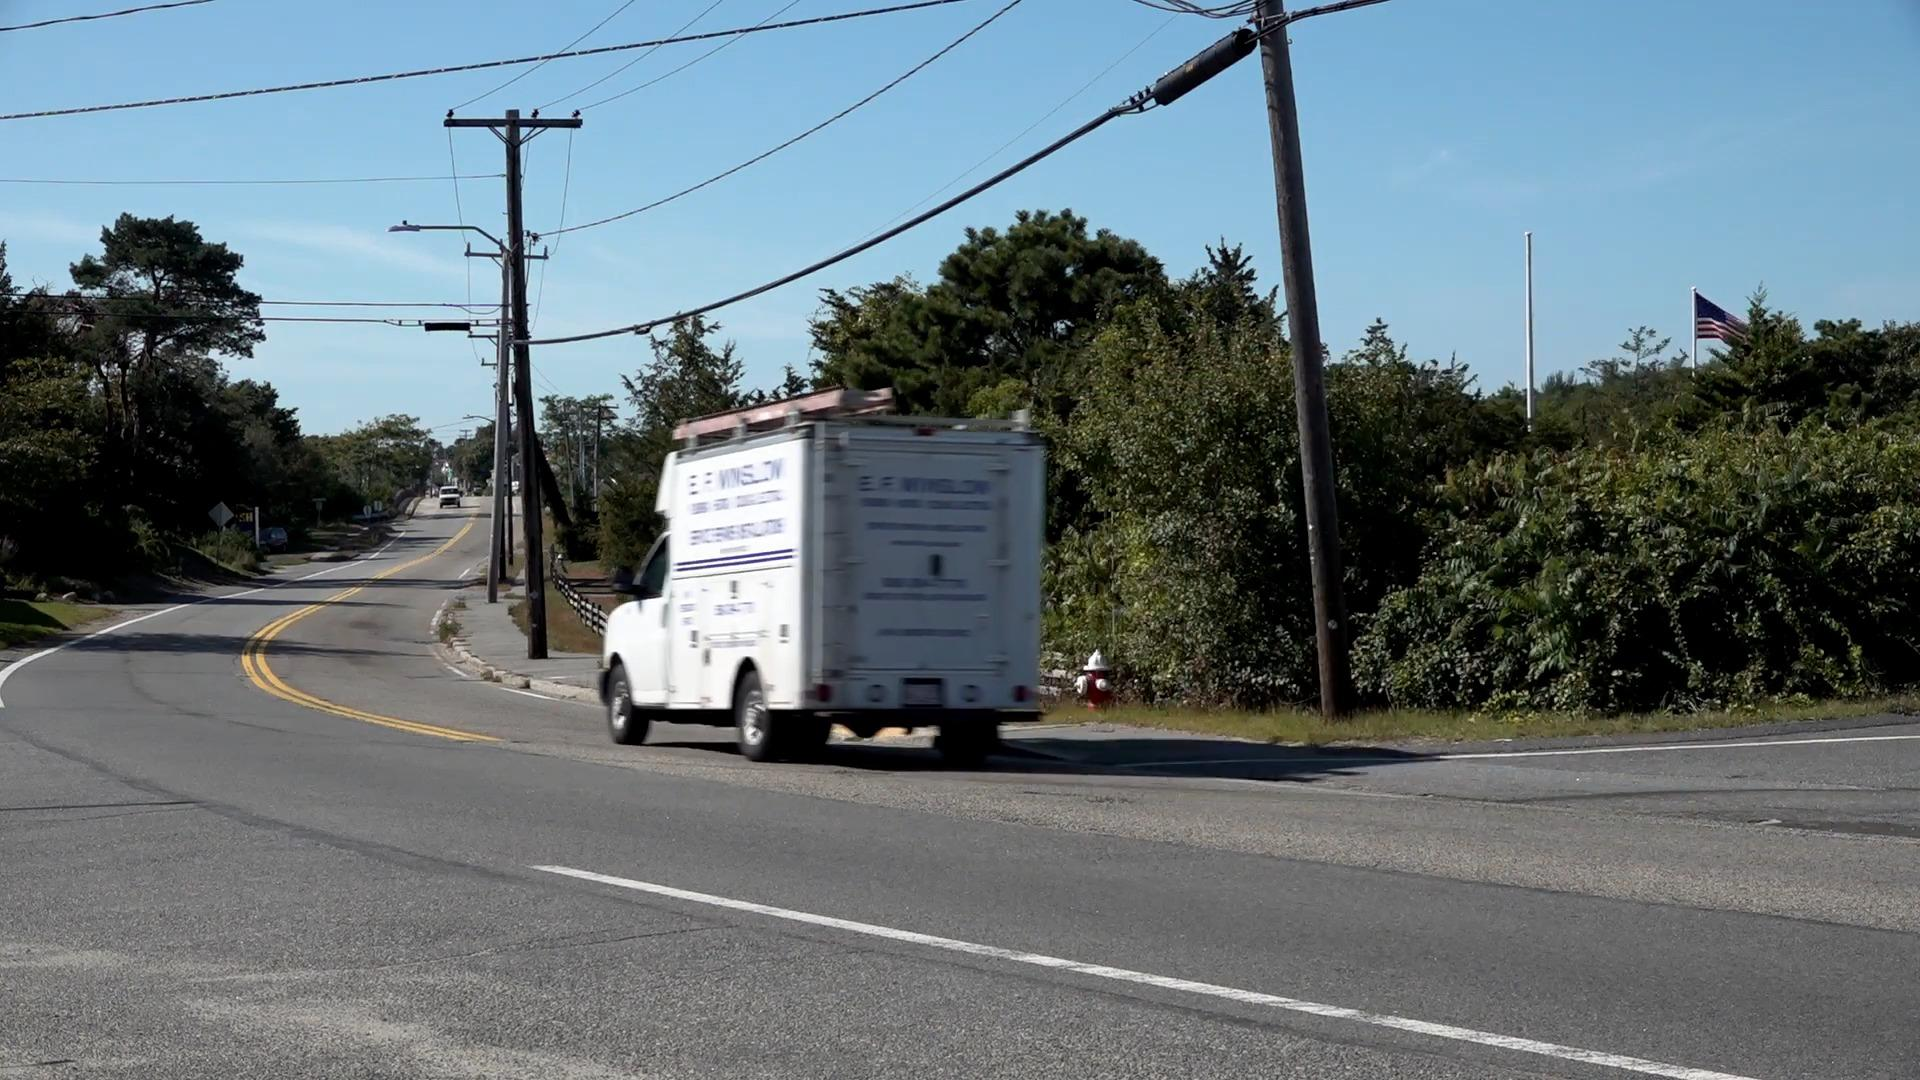truck: (604, 382, 1043, 764)
